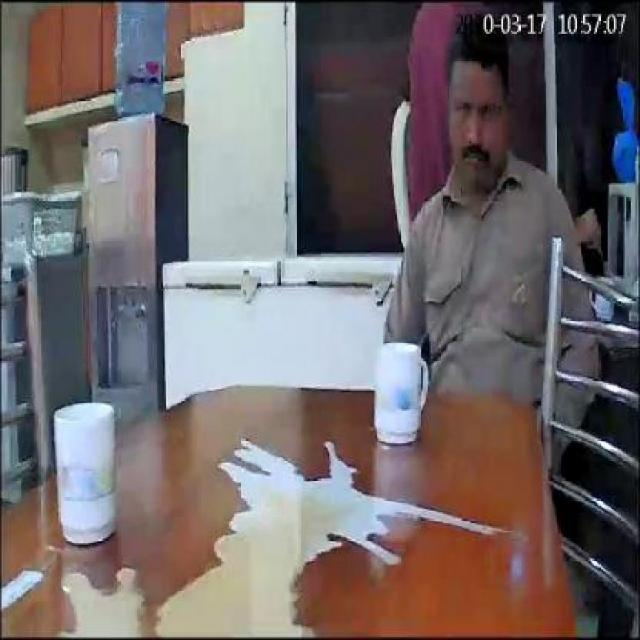spill: (57, 541, 310, 634)
